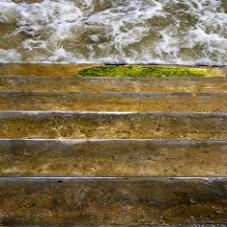Bench: (1, 57, 226, 184)
